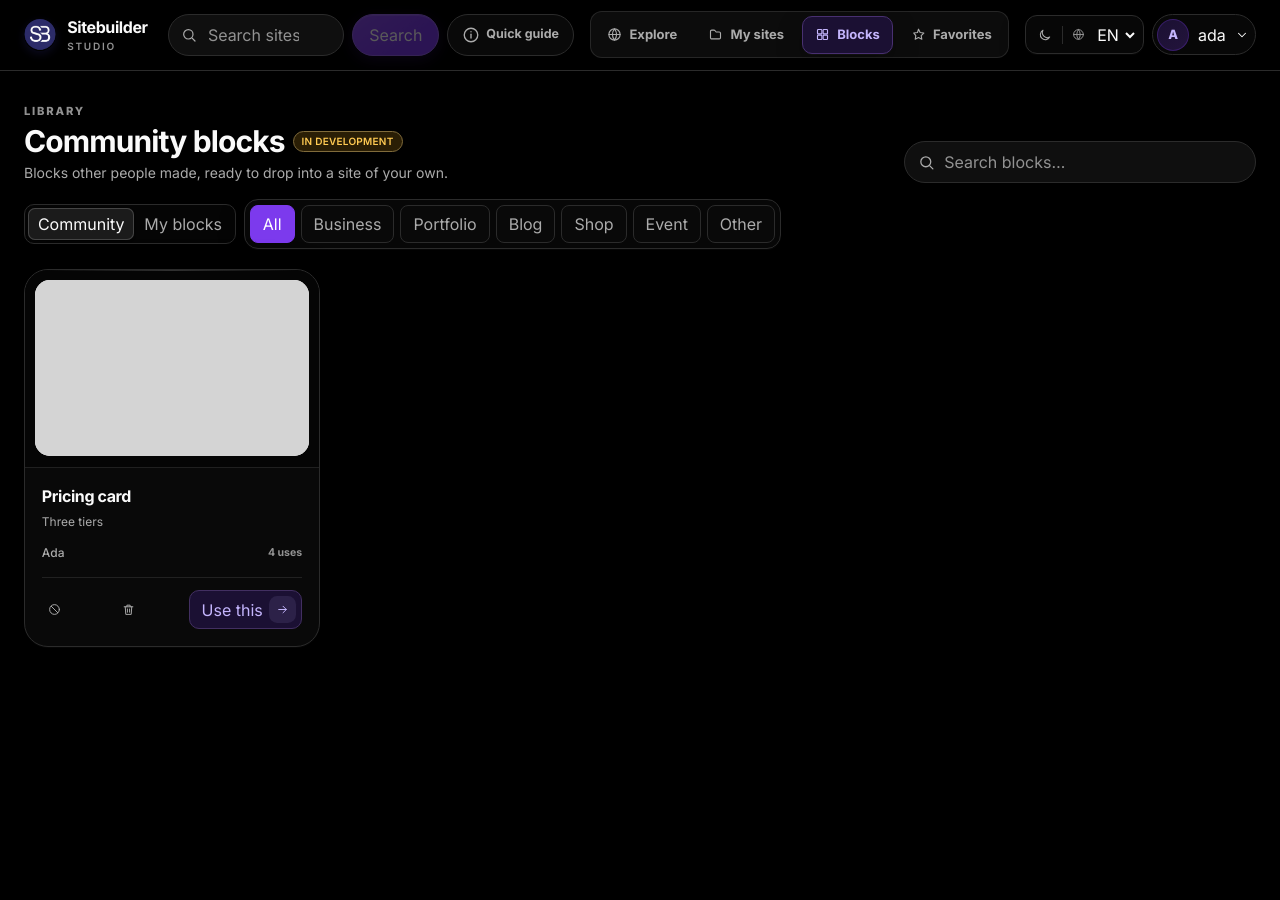
public and private › drops a block from the community grid the moment it goes private
The width and height of the screenshot is (1280, 900).
Step 1. Click the button named "Make private" → (55, 610), box [42,592,68,628]
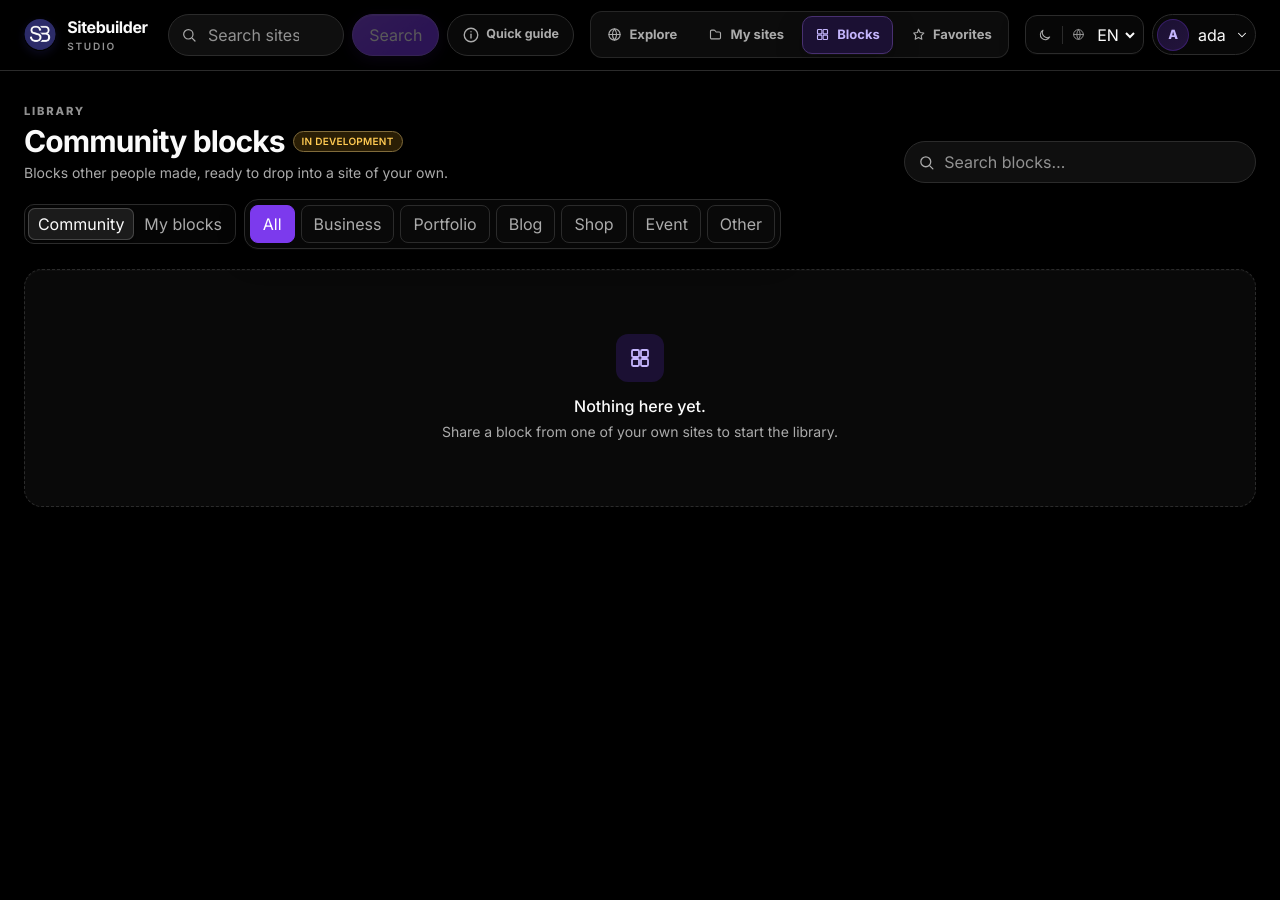
Expected: the heading titled "Pricing card" is gone
